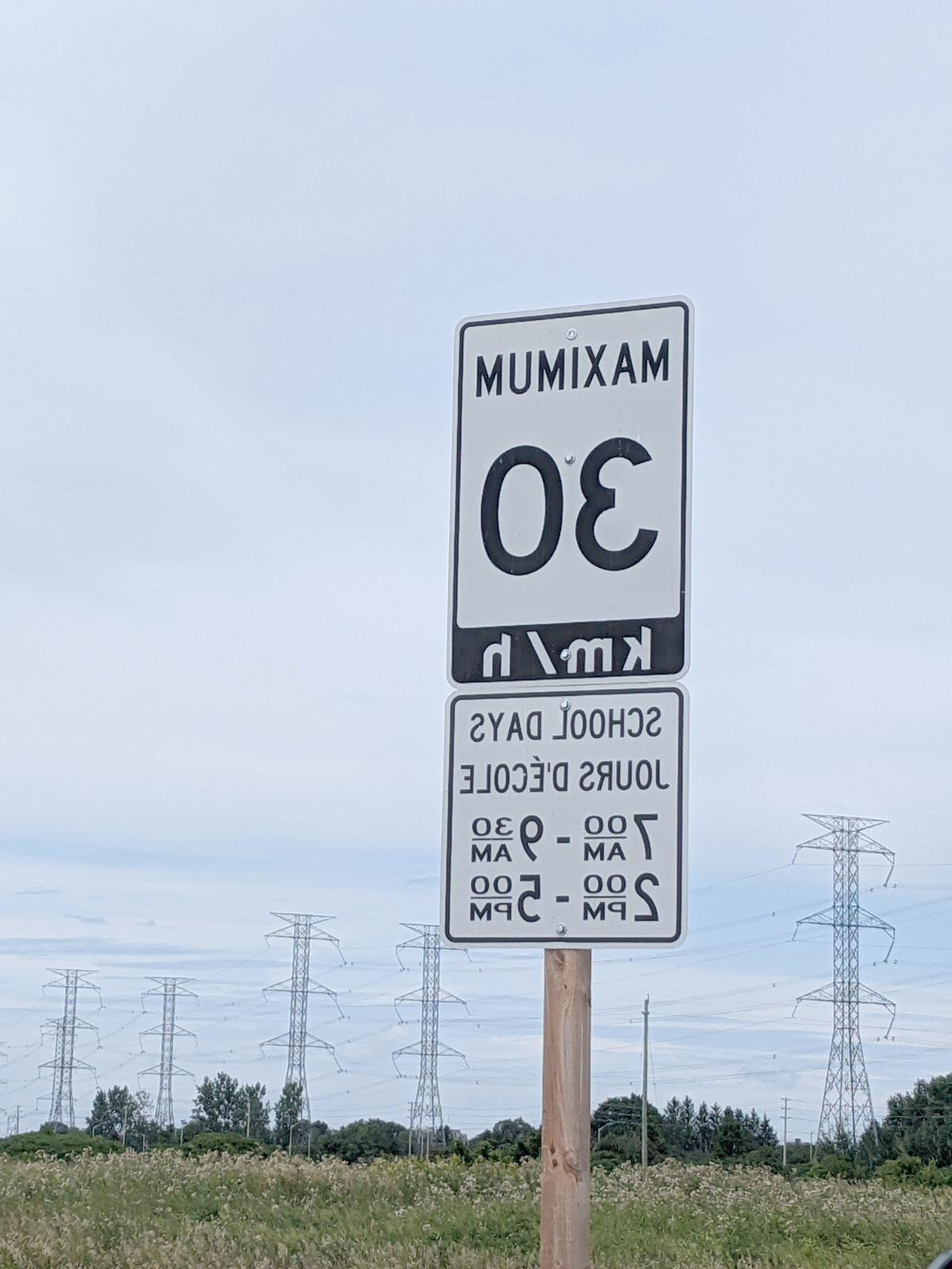speed limit sign: (445, 295, 698, 692)
